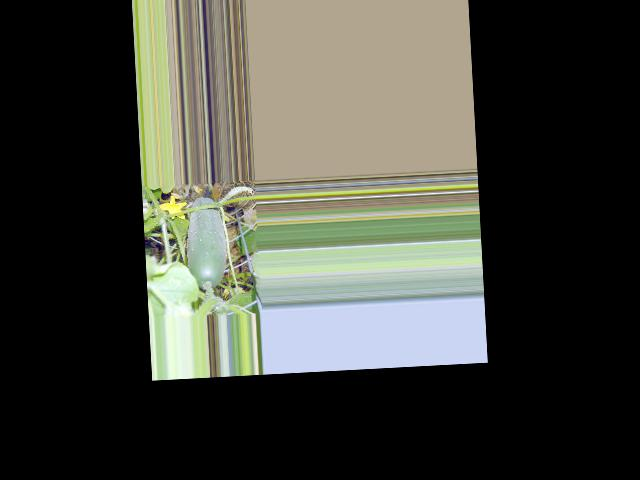cucumber: (184, 196, 229, 289)
